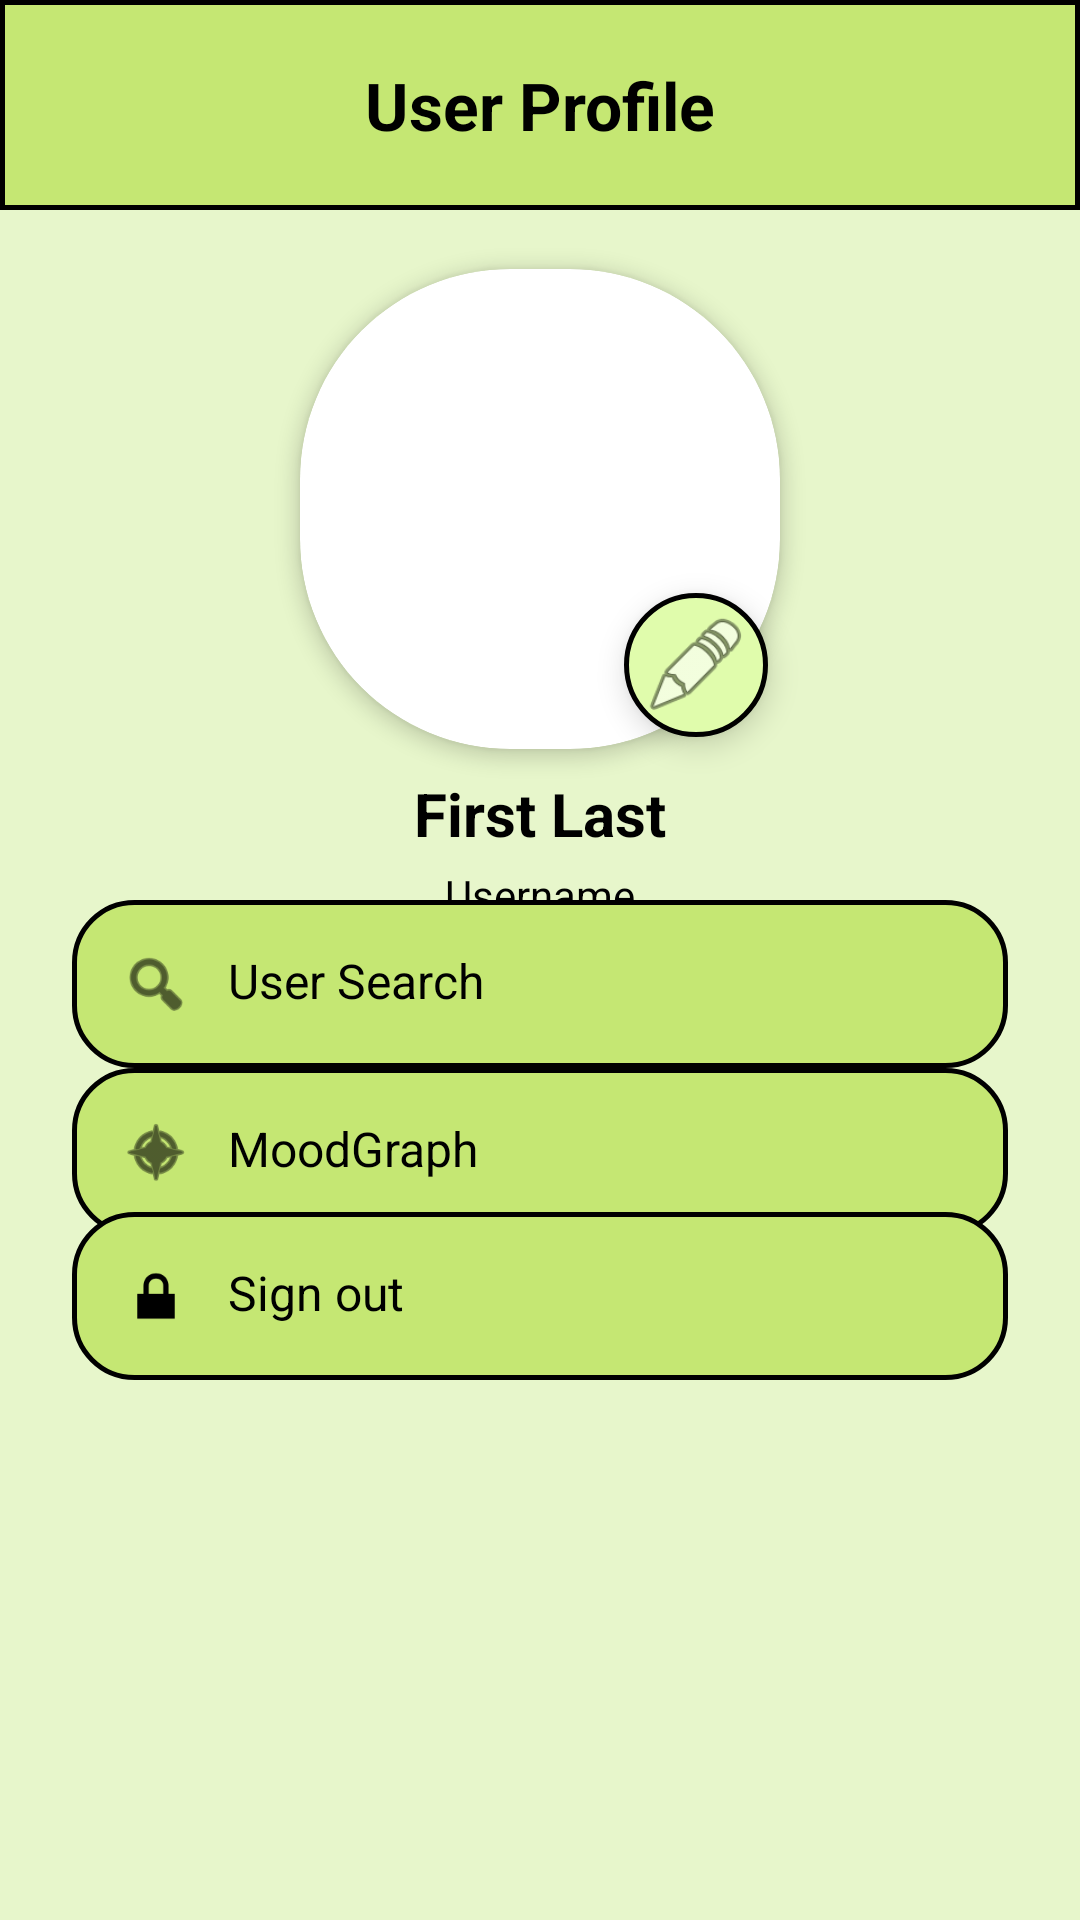

Icon click points for this 1080w x 1920h phone screenshot, format point (x, y):
Edit Profile: point (696, 665)
